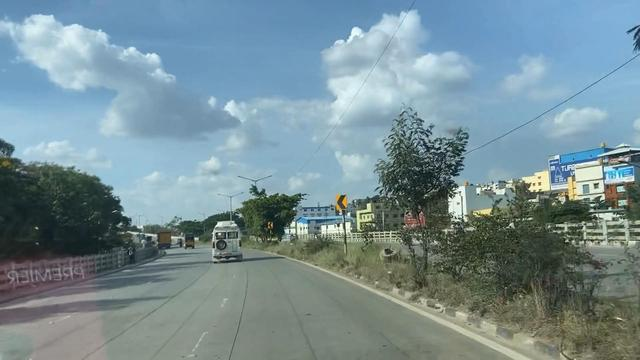HMV: (206, 215, 242, 260)
